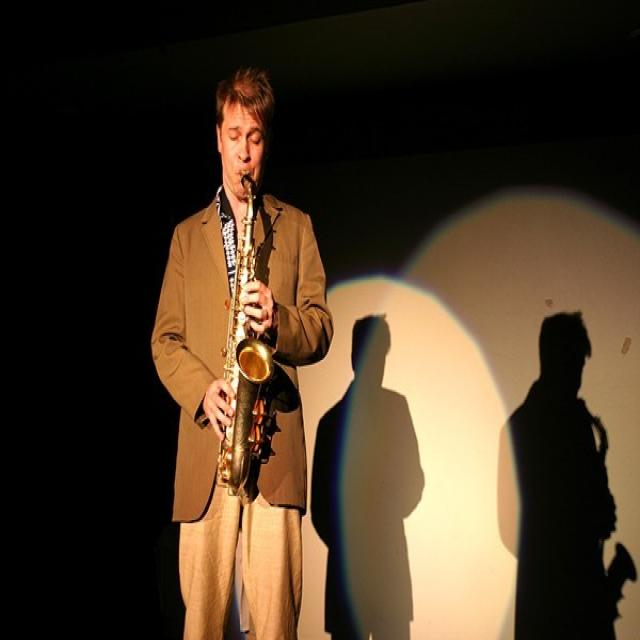saxophone: (218, 174, 274, 495)
